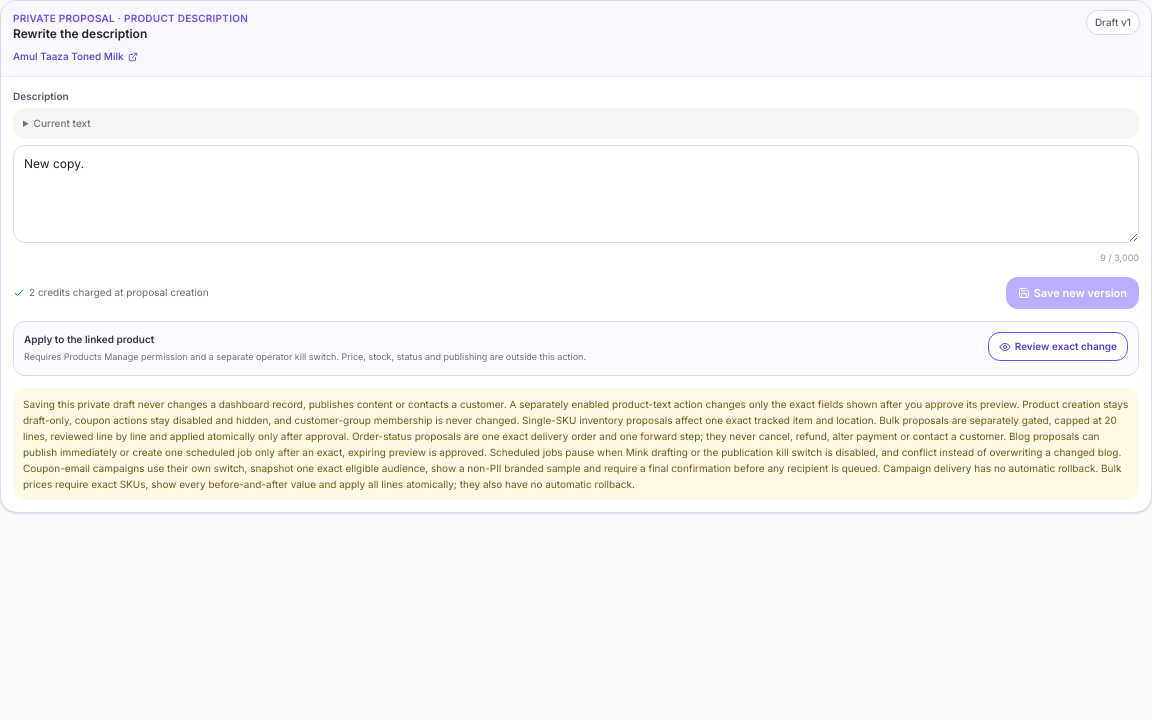
Test: Mink proposal card · execute outcome › clears the approval when the server definitely refused
This screenshot has width=1152, height=720.
Click the button "Review exact change" at (1058, 346), box [988,332,1128,361]
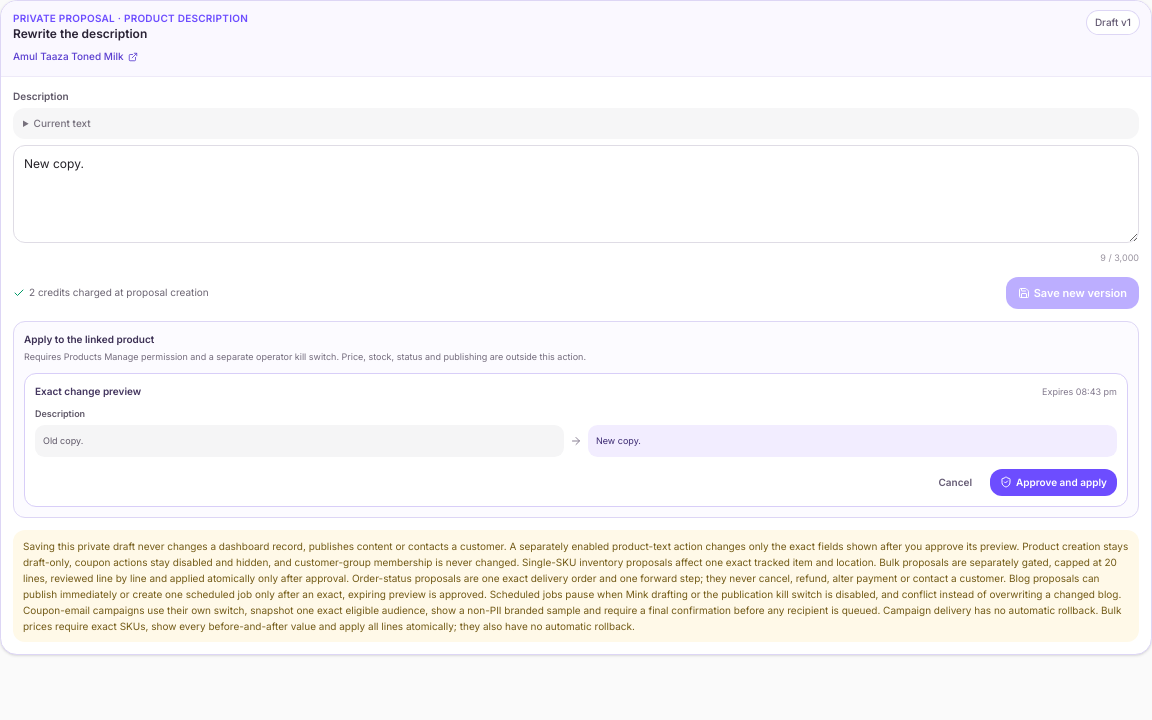
Click the button "Approve and apply" at (1054, 482), box [990,468,1117,496]
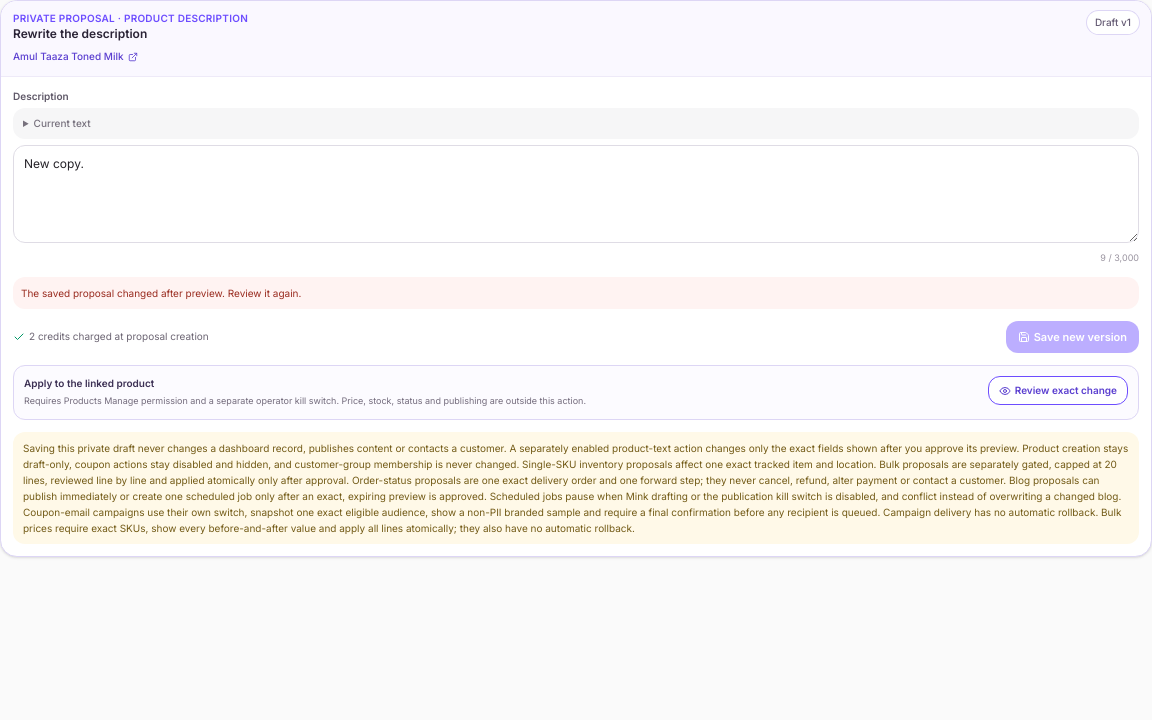
expect the text "The saved proposal changed after preview. Review it again." is shown: met, box [13,276,1139,308]
expect the button "Review exact change" is shown: met, box [988,376,1128,405]
expect the button "Approve and apply" is gone: met
